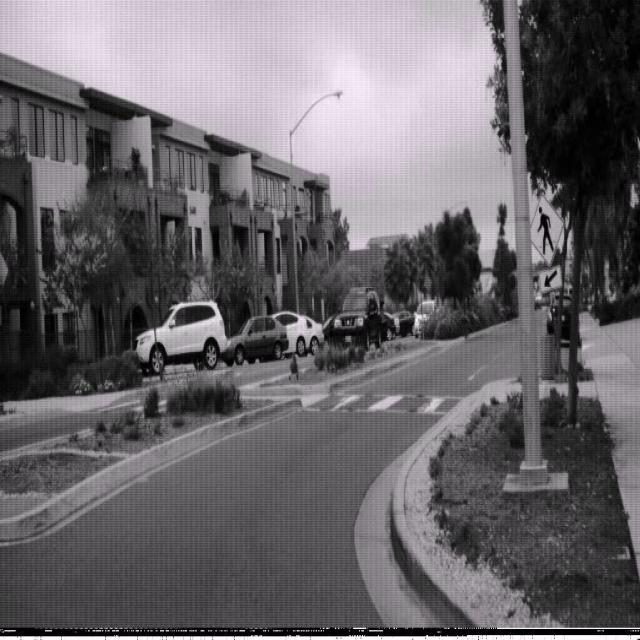pedestrianCrossing: (527, 190, 564, 267)
